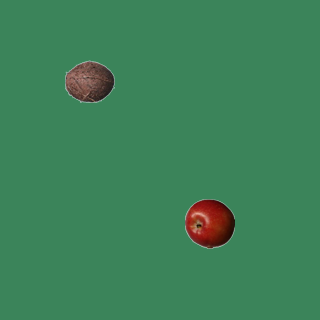Apple Braeburn: (184, 198, 234, 248)
Cocos: (64, 56, 114, 106)
